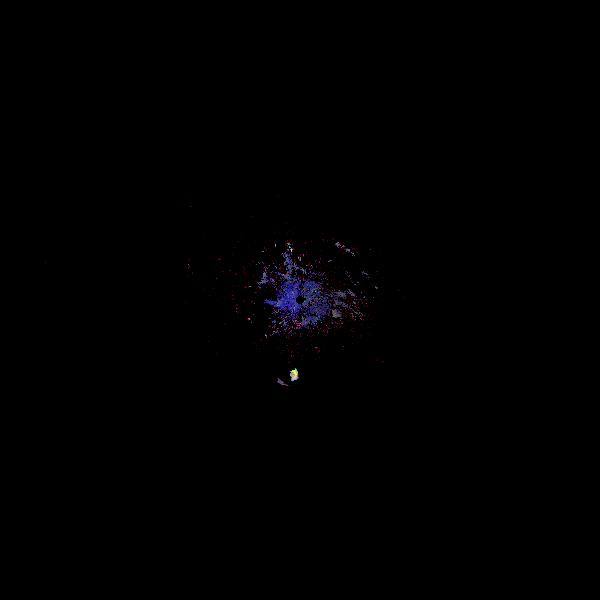roost: (290, 368, 302, 380)
